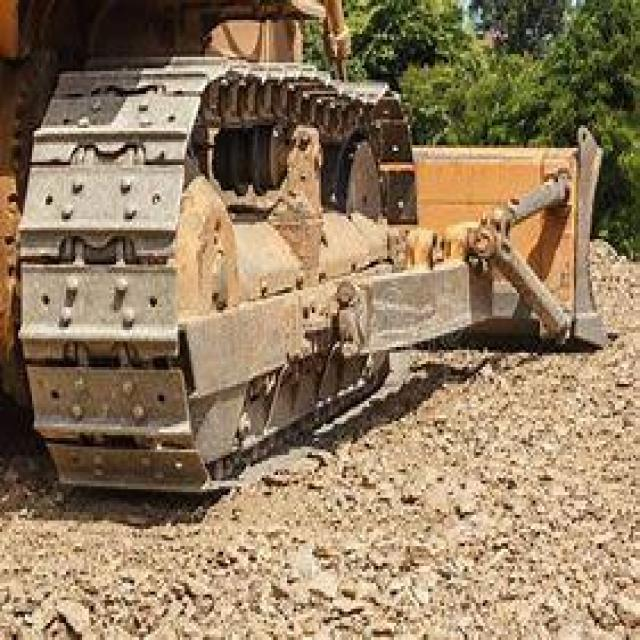Bulldozer: (16, 3, 615, 503)
